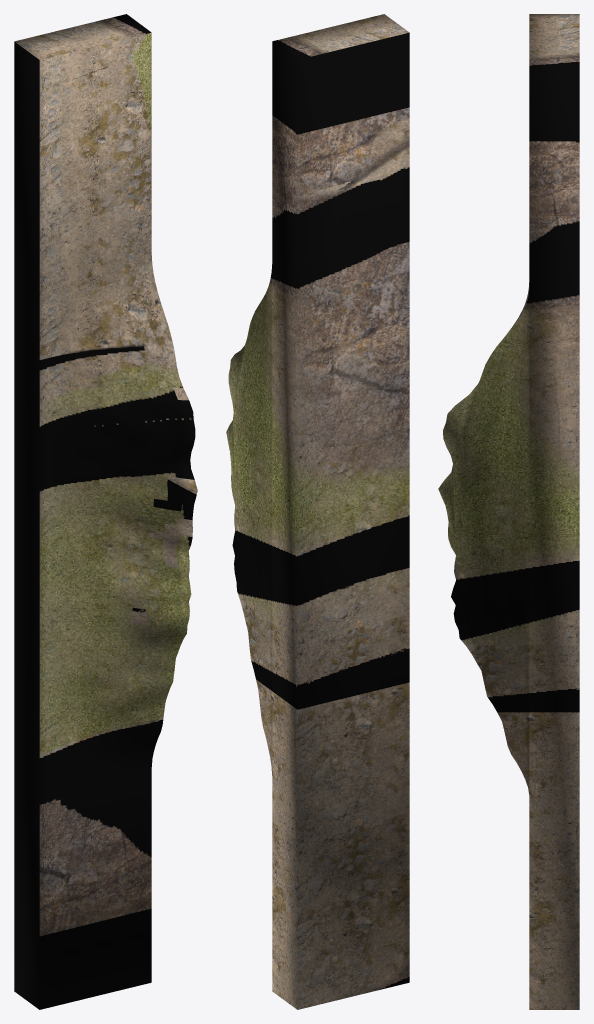
Rendered from Welt_xna.fbx.
3 views of the same model, side by side, from view 1: azimuth 30°, elevation 25°; view 2: azimuth 210°, elevation 25°; view 3: azimuth 270°, elevation 25° (orthographic).
Parts seen in each view (by area): view 1: Landscape; view 2: Landscape; view 3: Landscape.
Boxes of the visible parts, <box> form: Landscape: <box>14,14,197,1009</box>; Landscape: <box>226,14,409,1009</box>; Landscape: <box>438,14,579,1009</box>.
Bounding box in the file's own units: 3.58 × 28.86 × 3.93.
Materials: 1 (1 with a texture image).
